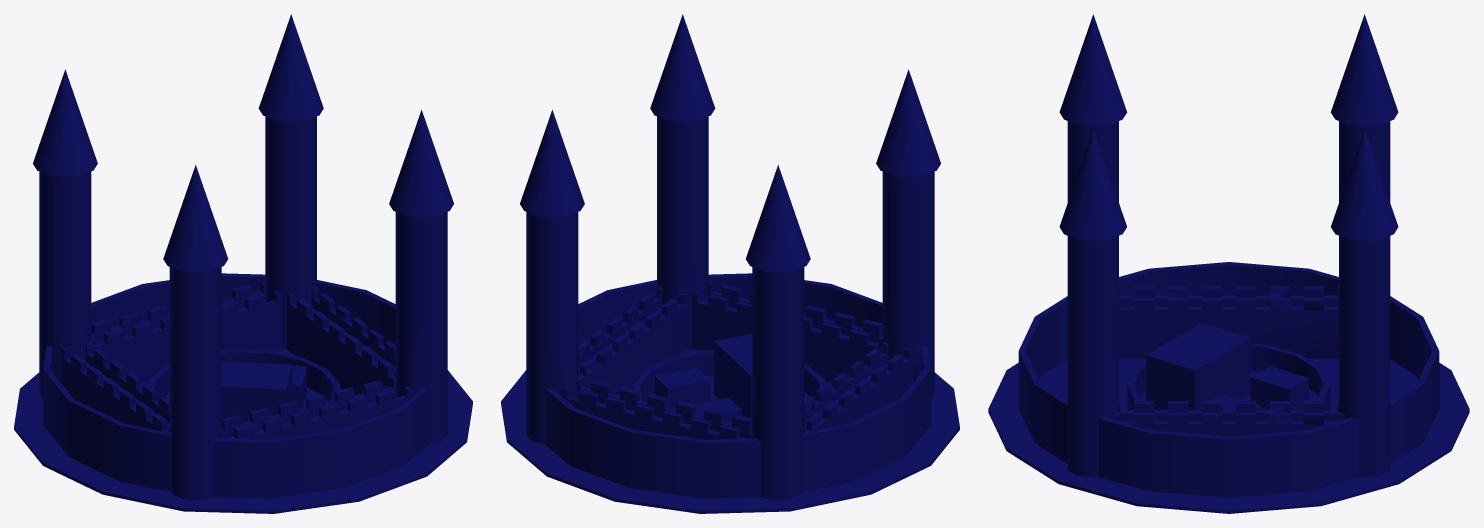
3 views of the same model, side by side, from view 1: azimuth 30°, elevation 25°; view 2: azimuth 150°, elevation 25°; view 3: azimuth 270°, elevation 25° (orthographic). The views are drawn at different scales.
Parts seen in each view (by area): view 1: wall001, Box001; view 2: wall001, Box001; view 3: wall001, Box001.
Part boxes in pixels (x1,y1,x2,y2): wall001: (33,14,453,499); Box001: (14,273,472,513); wall001: (520,14,940,499); Box001: (501,273,959,513); wall001: (1059,14,1398,477); Box001: (988,262,1469,513).
Size of the model in its own units: 142 by 111 by 142.
